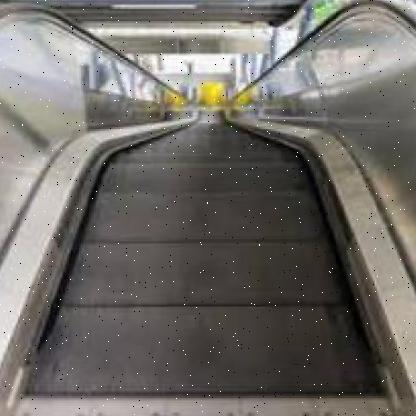stair_down: (15, 258, 375, 414)
